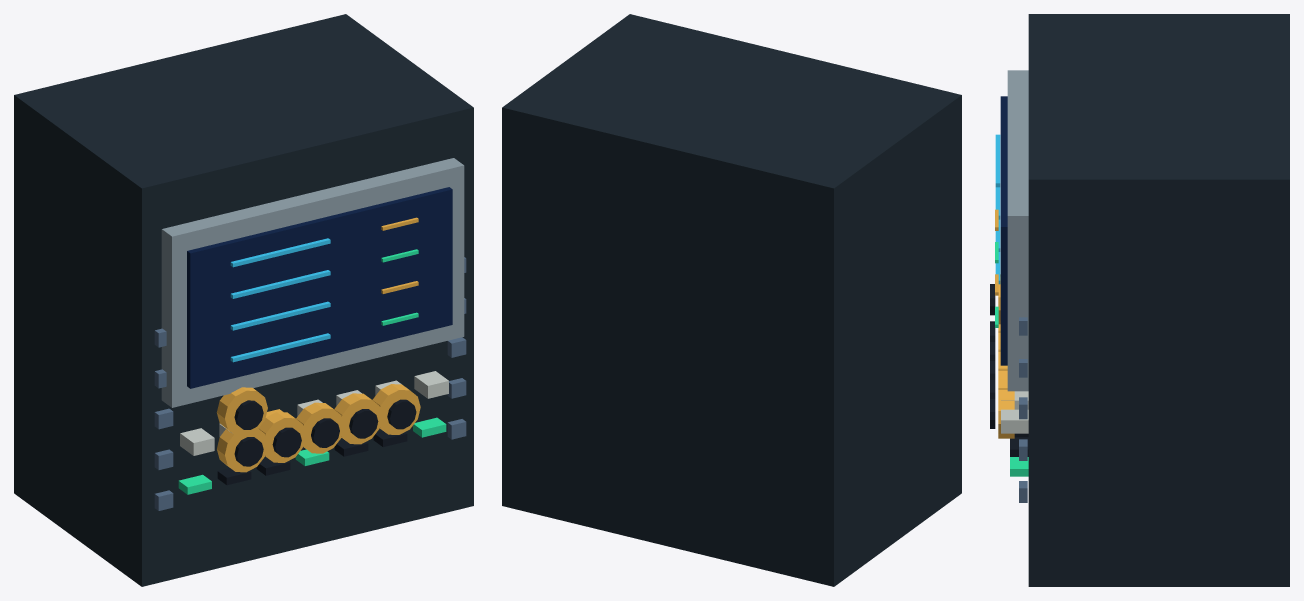
The model's file is 72_L84_HolographicAttitudeControlSCADA.fbx.
3 renders of one model, left to right at view 1: azimuth 30°, elevation 25°; view 2: azimuth 150°, elevation 25°; view 3: azimuth 270°, elevation 25°, orthographic. The views are drawn at different scales.
Parts seen in each view (by area): view 1: L84_HolographicAttitudeControlSCADA, L84_HolographicAttitudeControlSCADA_Part_0020, L84_HolographicAttitudeControlSCADA_Part_0016, L84_HolographicAttitudeControlSCADA_Part_0012, L84_HolographicAttitudeControlSCADA_Part_0018, L84_HolographicAttitudeControlSCADA_Part_0010, L84_HolographicAttitudeControlSCADA_Part_0014, L84_HolographicAttitudeControlSCADA_Part_0019, L84_HolographicAttitudeControlSCADA_Part_0013, L84_HolographicAttitudeControlSCADA_Part_0015, L84_HolographicAttitudeControlSCADA_Part_0021, L84_HolographicAttitudeControlSCADA_Part_0011 (+1 smaller); view 2: L84_HolographicAttitudeControlSCADA; view 3: L84_HolographicAttitudeControlSCADA, L84_HolographicAttitudeControlSCADA_Part_0018.
Part boxes in pixels (x1,y1,x2,y2): L84_HolographicAttitudeControlSCADA: (14,14,473,586); L84_HolographicAttitudeControlSCADA_Part_0020: (216,387,267,434); L84_HolographicAttitudeControlSCADA_Part_0016: (334,393,382,444); L84_HolographicAttitudeControlSCADA_Part_0012: (258,412,305,462); L84_HolographicAttitudeControlSCADA_Part_0018: (372,384,420,434); L84_HolographicAttitudeControlSCADA_Part_0010: (217,427,267,472); L84_HolographicAttitudeControlSCADA_Part_0014: (296,402,343,453); L84_HolographicAttitudeControlSCADA_Part_0019: (387,399,416,429); L84_HolographicAttitudeControlSCADA_Part_0013: (272,427,301,457); L84_HolographicAttitudeControlSCADA_Part_0015: (311,418,339,447); L84_HolographicAttitudeControlSCADA_Part_0021: (234,400,263,429); L84_HolographicAttitudeControlSCADA_Part_0011: (234,437,263,466); L84_HolographicAttitudeControlSCADA: (502,14,961,586); L84_HolographicAttitudeControlSCADA: (995,14,1289,586); L84_HolographicAttitudeControlSCADA_Part_0018: (998,388,1014,438).
Bounding box in the file's own units: 99.96 × 115 × 76.52.
